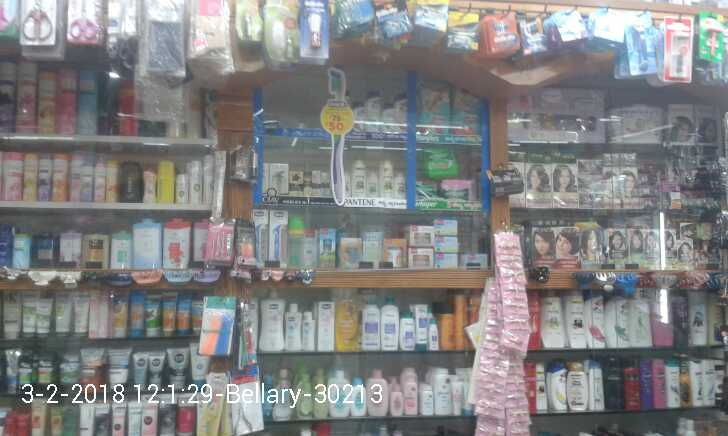beauty: (303, 2, 331, 57), (489, 16, 521, 52), (391, 89, 408, 138), (364, 88, 380, 131), (379, 158, 394, 201), (350, 158, 365, 199), (380, 101, 393, 135), (287, 169, 303, 195), (365, 167, 378, 196), (395, 175, 406, 200), (322, 172, 332, 196), (312, 170, 321, 195), (303, 172, 312, 196)
pharmacy: (416, 75, 451, 134), (454, 91, 483, 136), (422, 141, 457, 176), (443, 179, 474, 203)
